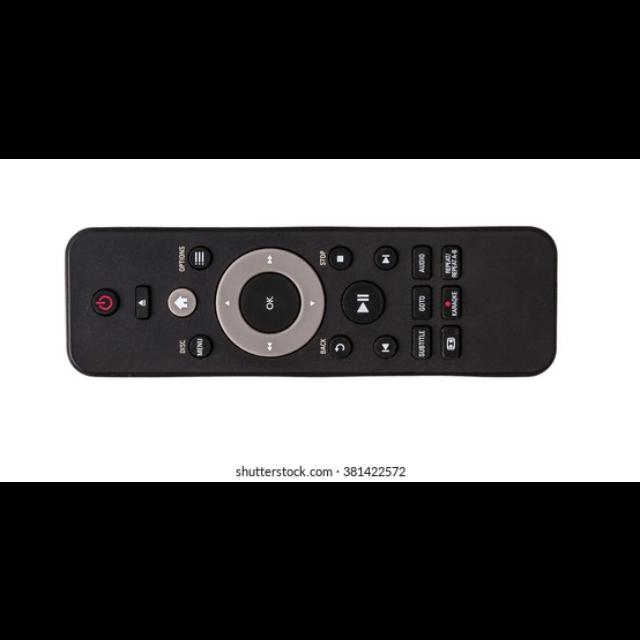TV-Remote-Control: (61, 225, 559, 379)
